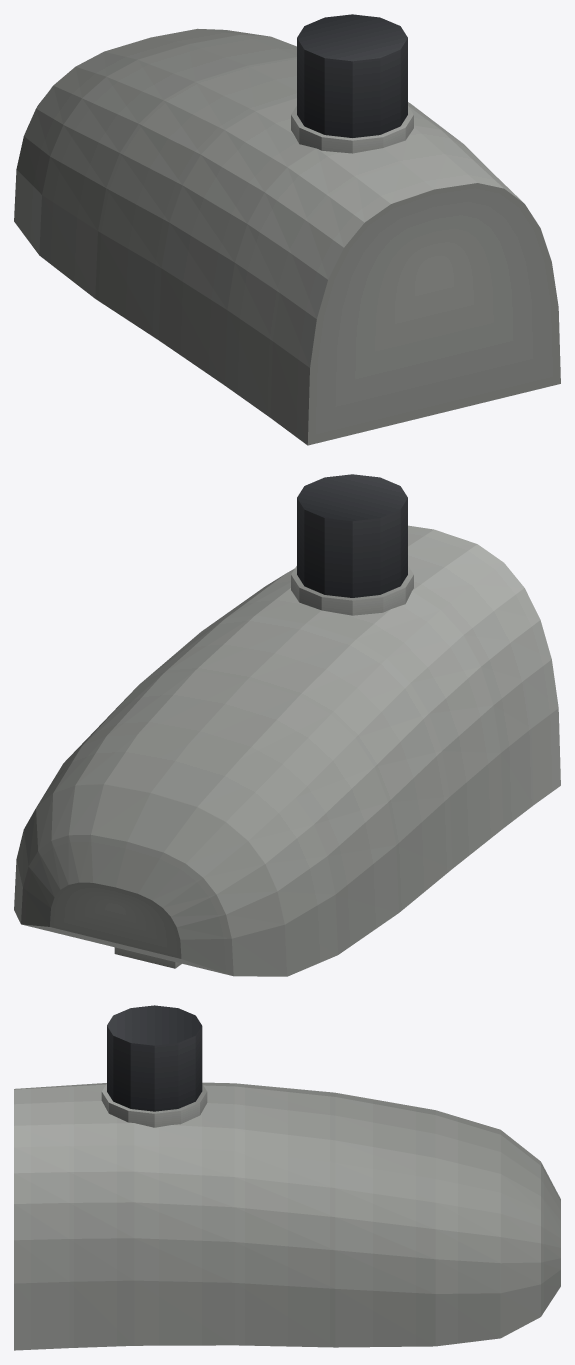
Rendered from streetlight_gem240r2cu.obj.
The picture shows the model from 3 angles, top to bottom: view 1: azimuth 30°, elevation 25°; view 2: azimuth 150°, elevation 25°; view 3: azimuth 270°, elevation 25°; orthographic projection. The views are drawn at different scales.
Parts seen in each view (by area): view 1: fixture; view 2: fixture; view 3: fixture.
Part boxes in pixels (x1,y1,x2,y2): fixture: (14,14,560,445); fixture: (14,474,560,976); fixture: (14,1005,560,1350).
Bounding box in the file's own units: 0.375 × 0.3737 × 0.6812.
